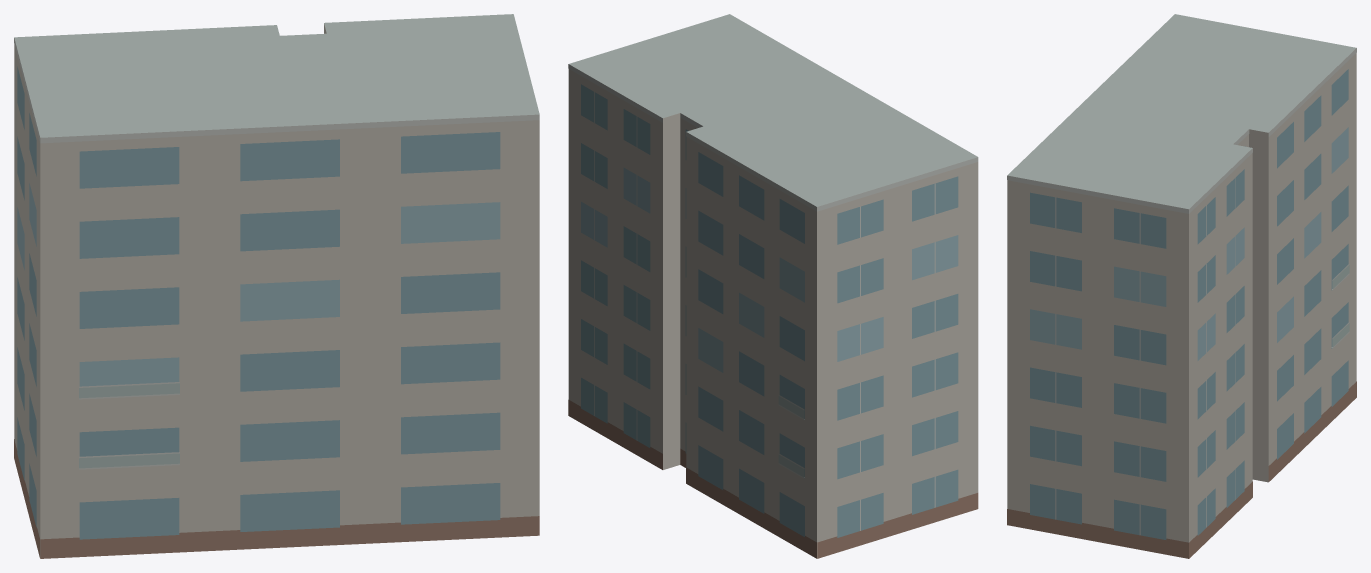
File: survey-upis-32521920.glb
3 views of the same model, side by side, from view 1: azimuth 30°, elevation 25°; view 2: azimuth 150°, elevation 25°; view 3: azimuth 270°, elevation 25° (orthographic). The views are drawn at different scales.
Visible parts, largest first — view 1: survey-upis-32521920.tmp; view 2: survey-upis-32521920.tmp; view 3: survey-upis-32521920.tmp.
Part boxes in pixels (x1=…): survey-upis-32521920.tmp: x1=14, y1=14, x2=539, y2=558; survey-upis-32521920.tmp: x1=568, y1=14, x2=978, y2=558; survey-upis-32521920.tmp: x1=1007, y1=14, x2=1356, y2=558.
Bounding box in the file's own units: 21.93 × 18.3 × 16.6.
